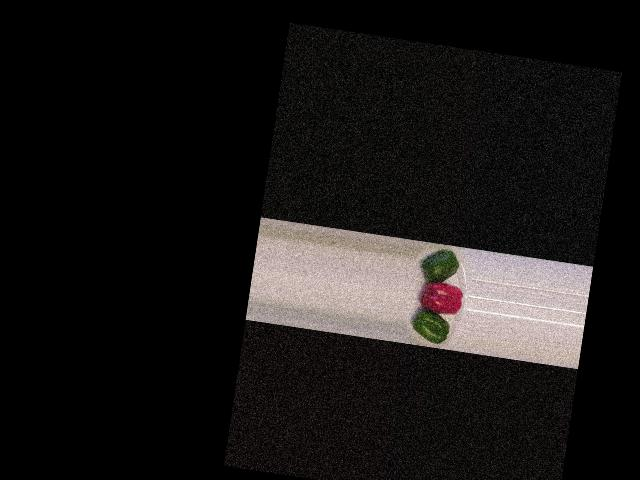bell_pepper: (415, 244, 465, 287)
